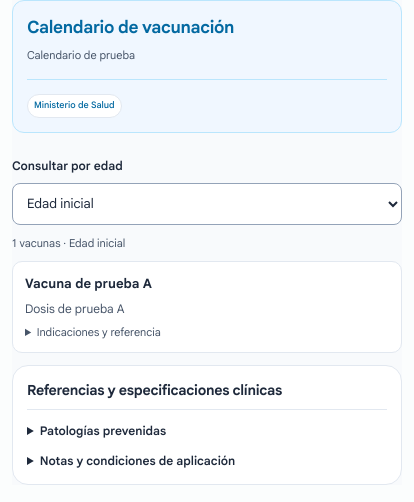
Vaccination calendar shared theme › selects age-specific applications, preserving notes, risk indications and new source columns
Select "Edad posterior" in the dropdown with id "mobile-vaccine-age" at (207, 204), box 12,182 -> 402,224
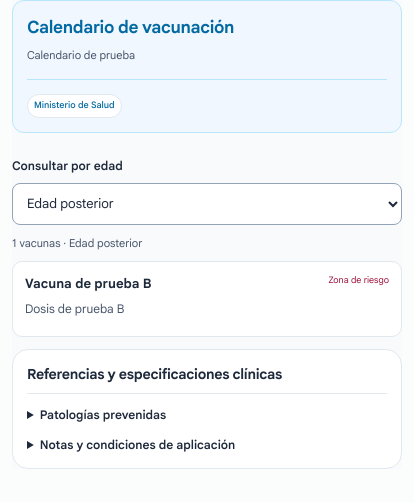
Expected: the text with class "mobile-risk" reads "Zona de riesgo", 328,274 -> 389,286
